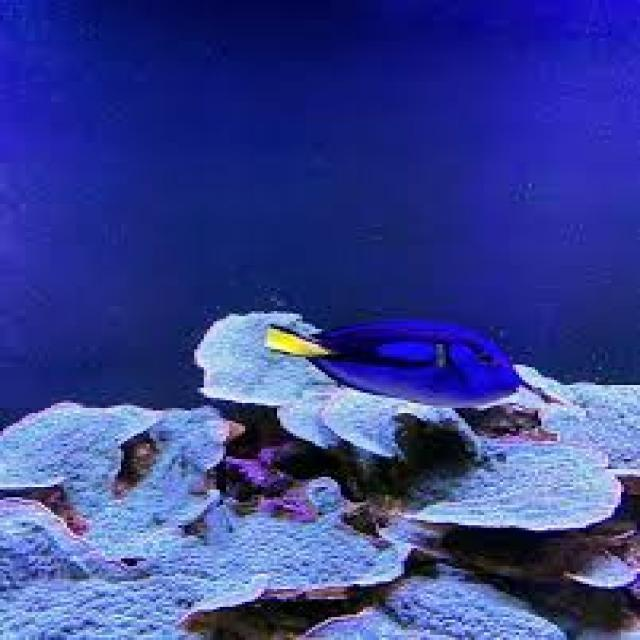TangFish: (266, 308, 525, 410)
